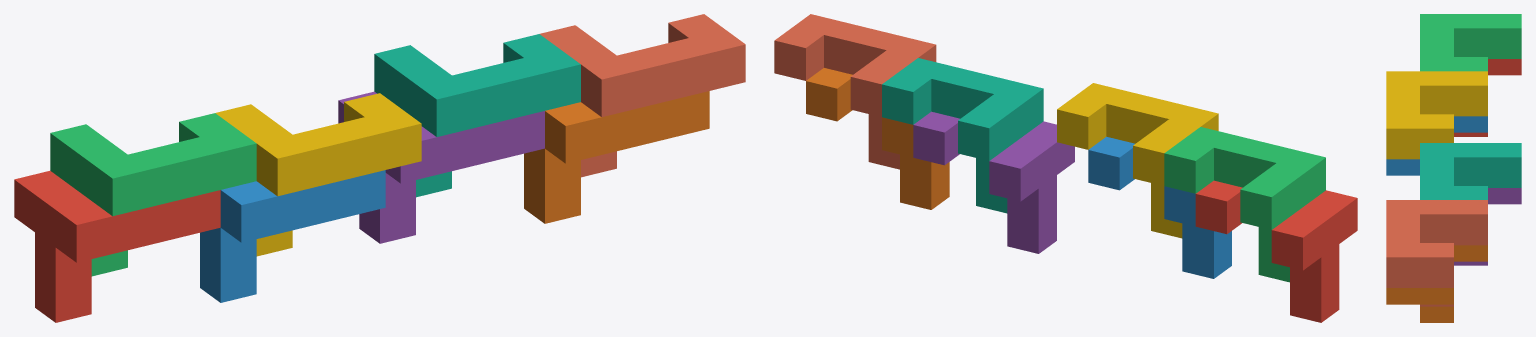
Rendered from tiling.obj.
3 views of the same model, side by side, from view 1: azimuth 30°, elevation 25°; view 2: azimuth 150°, elevation 25°; view 3: azimuth 270°, elevation 25° (orthographic). The views are drawn at different scales.
Parts seen in each view (by area): view 1: copy_1_domain_3, copy_1_domain_1, copy_1_domain_7, copy_1_domain_4, copy_1_domain_8, copy_1_domain_2, copy_1_domain_6, copy_1_domain_5; view 2: copy_1_domain_3, copy_1_domain_7, copy_1_domain_1, copy_1_domain_8, copy_1_domain_4, copy_1_domain_5, copy_1_domain_2, copy_1_domain_6; view 3: copy_1_domain_8, copy_1_domain_4, copy_1_domain_3, copy_1_domain_7, copy_1_domain_6, copy_1_domain_2, copy_1_domain_1, copy_1_domain_5.
Part boxes in pixels (left/top/right/bottom): copy_1_domain_3: left=50, top=113, right=256, bottom=276; copy_1_domain_1: left=14, top=171, right=220, bottom=322; copy_1_domain_7: left=374, top=34, right=580, bottom=197; copy_1_domain_4: left=215, top=93, right=421, bottom=256; copy_1_domain_8: left=540, top=14, right=745, bottom=177; copy_1_domain_2: left=200, top=170, right=385, bottom=302; copy_1_domain_6: left=524, top=91, right=709, bottom=223; copy_1_domain_5: left=338, top=91, right=544, bottom=243; copy_1_domain_3: left=1164, top=127, right=1325, bottom=282; copy_1_domain_7: left=882, top=58, right=1043, bottom=213; copy_1_domain_1: left=1195, top=180, right=1357, bottom=322; copy_1_domain_8: left=774, top=14, right=936, bottom=169; copy_1_domain_4: left=1057, top=83, right=1218, bottom=238; copy_1_domain_5: left=913, top=111, right=1074, bottom=253; copy_1_domain_2: left=1088, top=136, right=1231, bottom=278; copy_1_domain_6: left=806, top=68, right=949, bottom=209; copy_1_domain_8: left=1386, top=200, right=1487, bottom=306; copy_1_domain_4: left=1386, top=71, right=1487, bottom=159; copy_1_domain_3: left=1420, top=14, right=1521, bottom=71; copy_1_domain_7: left=1420, top=143, right=1521, bottom=199; copy_1_domain_6: left=1386, top=245, right=1487, bottom=322; copy_1_domain_2: left=1386, top=116, right=1487, bottom=175; copy_1_domain_1: left=1454, top=59, right=1521, bottom=136; copy_1_domain_5: left=1454, top=188, right=1521, bottom=265.
Size of the model in its own units: 18 by 4 by 4.
